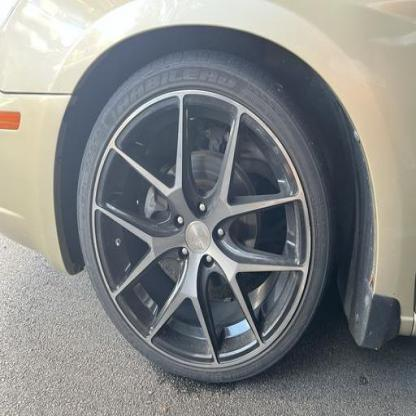Tire: (72, 45, 336, 385)
